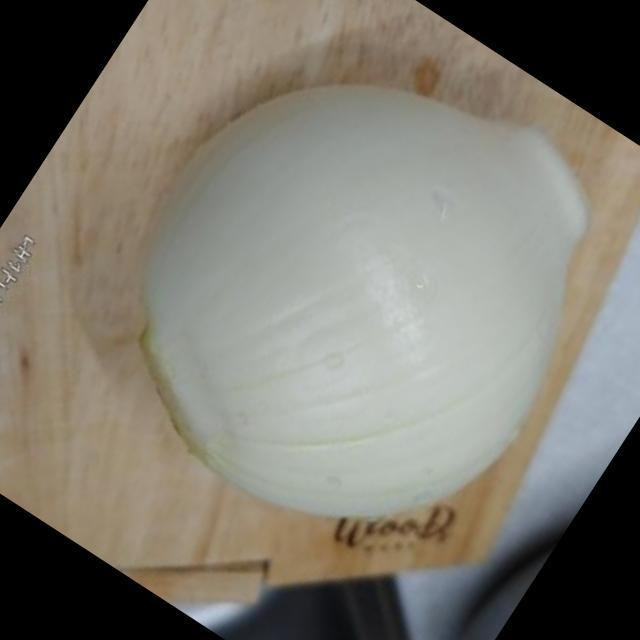Onion: (141, 82, 589, 524)
